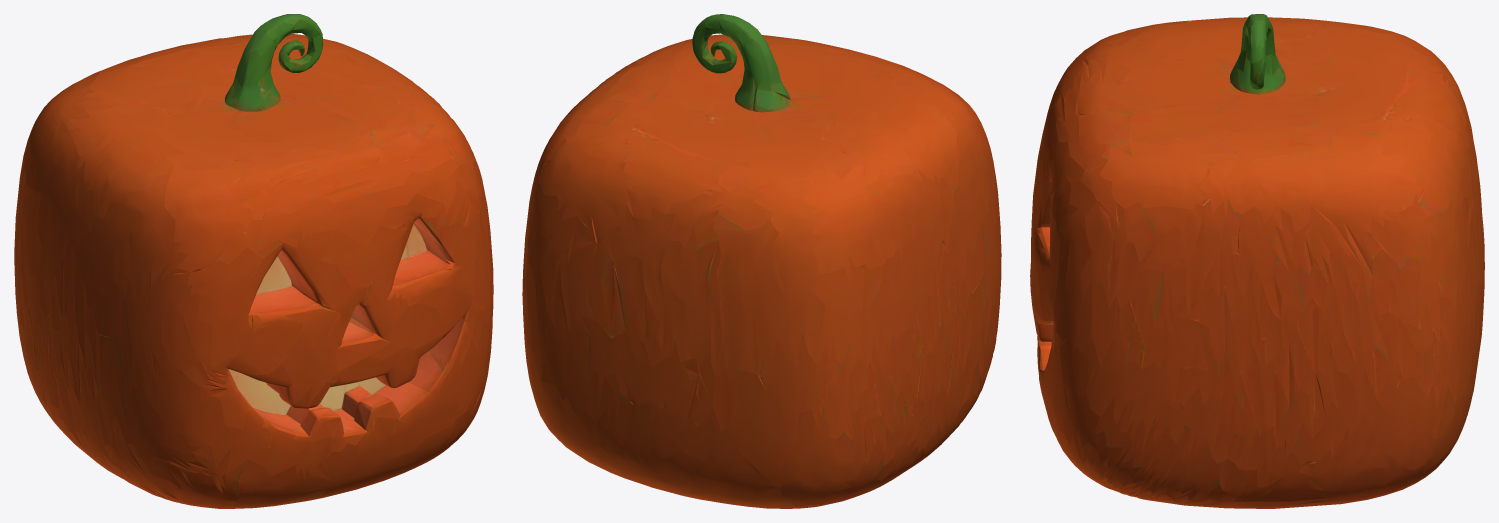
File: poplur_cube_jackolantern.glb
3 renders of one model, left to right at view 1: azimuth 30°, elevation 25°; view 2: azimuth 150°, elevation 25°; view 3: azimuth 270°, elevation 25°, orthographic. The views are drawn at different scales.
Visible parts, largest first — view 1: Mesh_0; view 2: Mesh_0; view 3: Mesh_0.
Boxes of the visible parts, x1,y1,x2,y2 form: Mesh_0: (14, 14, 493, 508); Mesh_0: (522, 14, 1001, 508); Mesh_0: (1030, 14, 1484, 508).
Size of the model in its own units: 1.75 by 1.9 by 1.76.
1 material, 1 textured.
